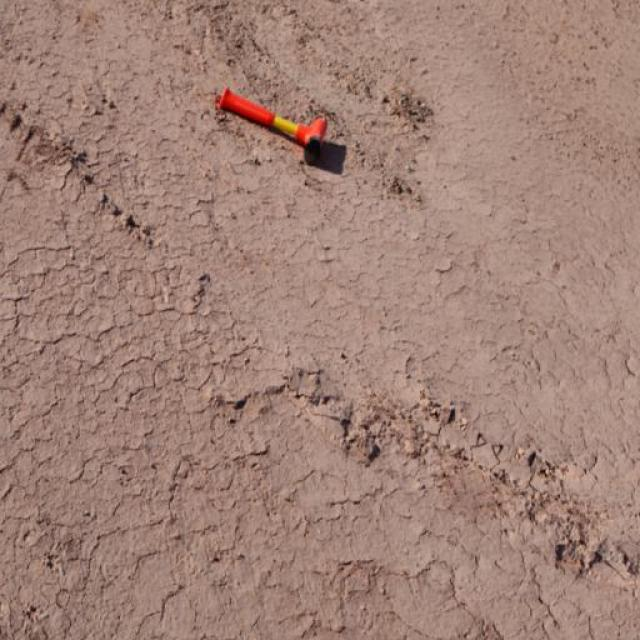mallet: (214, 85, 328, 156)
